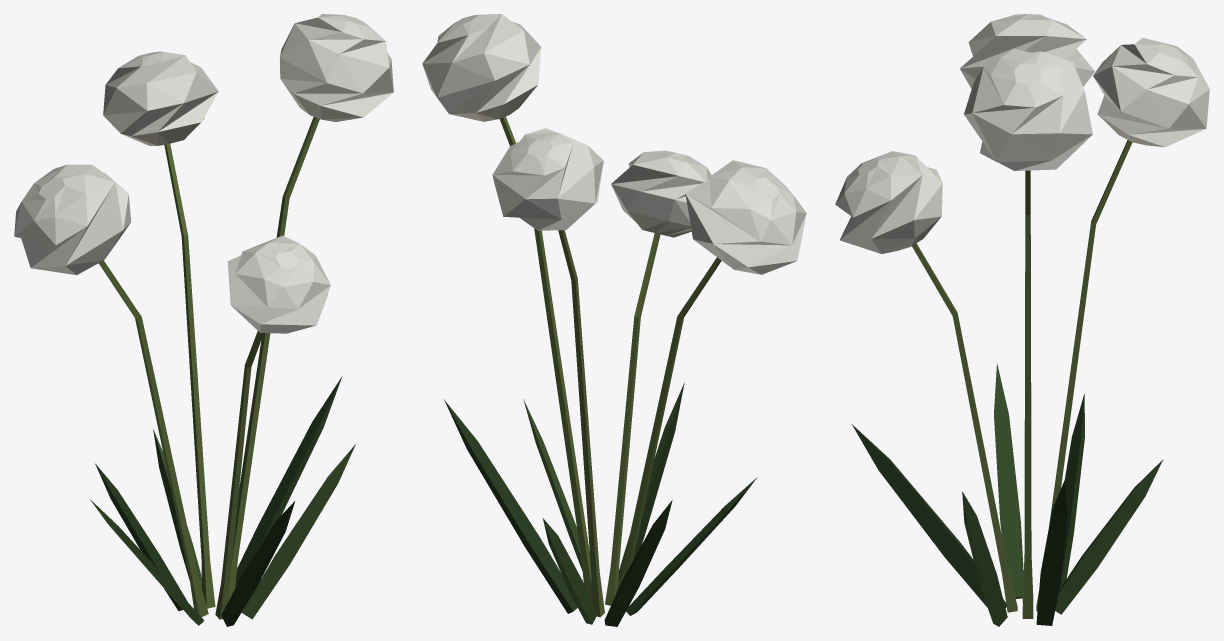
The model's file is cotton_grass.gltf.
3 views of the same model, side by side, from view 1: azimuth 30°, elevation 25°; view 2: azimuth 150°, elevation 25°; view 3: azimuth 270°, elevation 25° (orthographic). The views are drawn at different scales.
Parts seen in each view (by area): view 1: cotton_grass; view 2: cotton_grass; view 3: cotton_grass.
Part boxes in pixels (box(x1,y1,x2,y2)): cotton_grass: box(14, 14, 393, 626); cotton_grass: box(422, 14, 806, 626); cotton_grass: box(835, 14, 1209, 626).
Bounding box in the file's own units: 0.4172 × 0.6212 × 0.3399.
